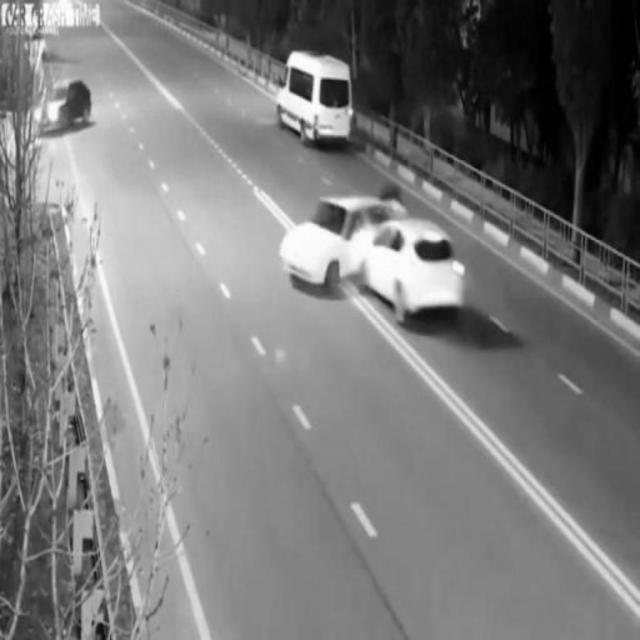accident: (281, 191, 469, 325)
vehicle: (278, 50, 356, 152), (33, 81, 91, 127)
